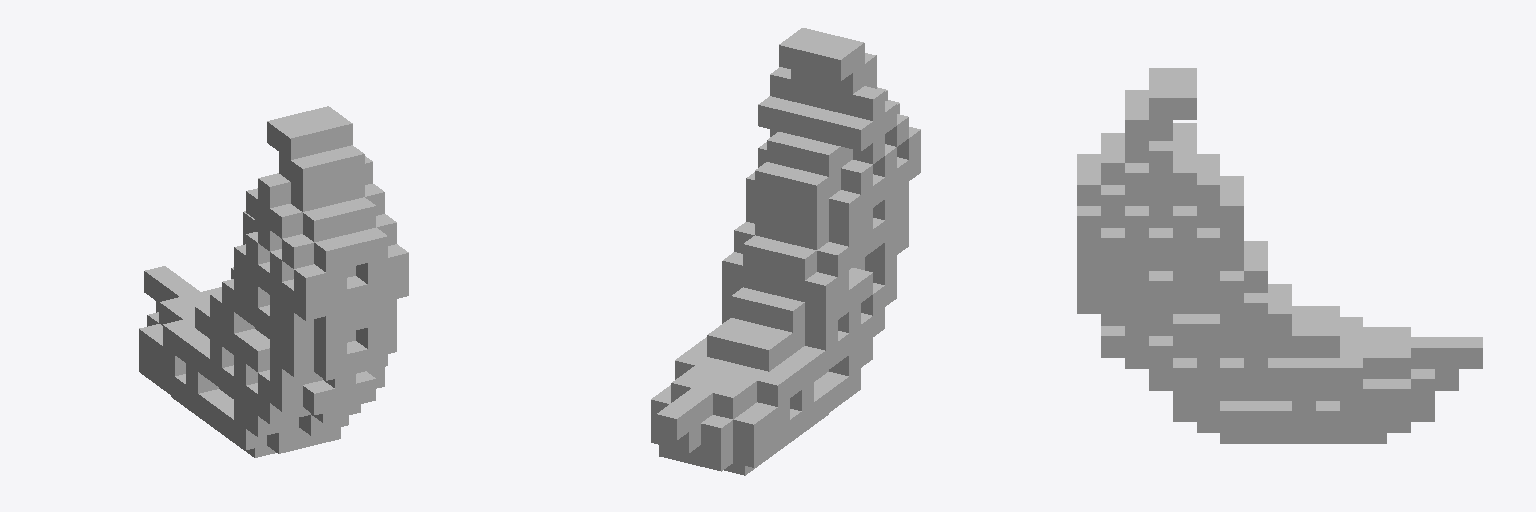
File: chile picante.obj
3 views of the same model, side by side, from view 1: azimuth 30°, elevation 25°; view 2: azimuth 150°, elevation 25°; view 3: azimuth 270°, elevation 25° (orthographic).
Visible parts, largest first — view 1: object 1; view 2: object 1; view 3: object 1.
Boxes of the visible parts, x1,y1,x2,y2 form: object 1: [139, 106, 408, 457]; object 1: [651, 28, 920, 475]; object 1: [1077, 68, 1482, 443].
Bounding box in the file's own units: 0.5 × 1.6 × 1.7.